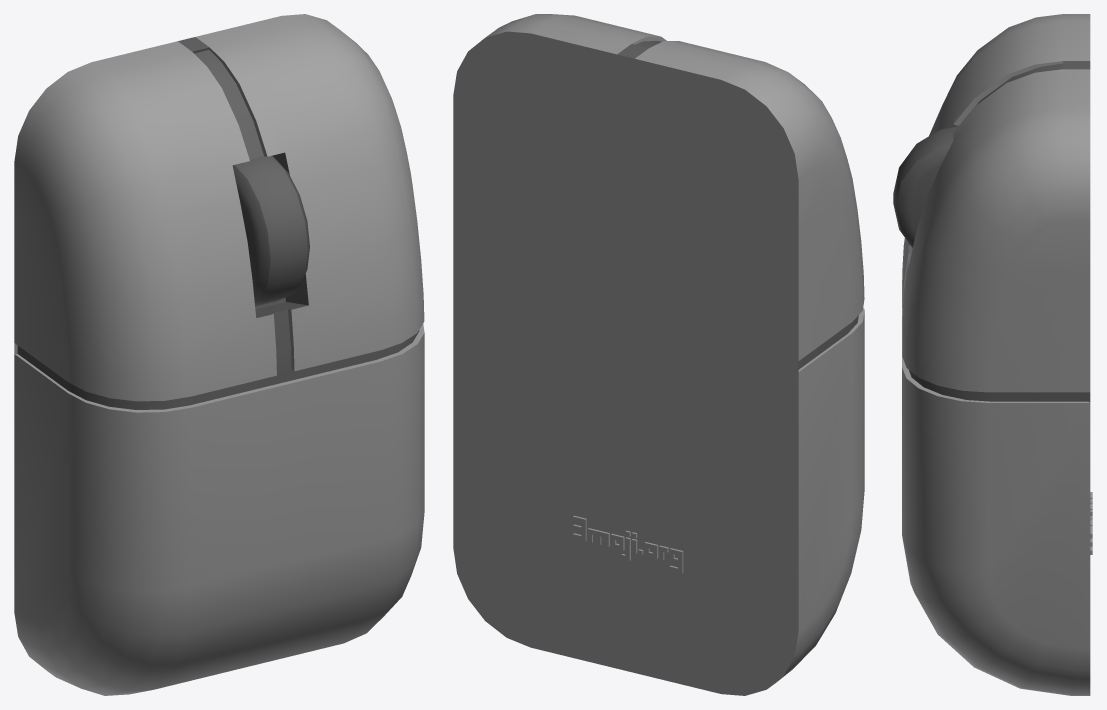
The model's file is computer_mouse.fbx.
3 renders of one model, left to right at view 1: azimuth 30°, elevation 25°; view 2: azimuth 150°, elevation 25°; view 3: azimuth 270°, elevation 25°, orthographic. The views are drawn at different scales.
Parts seen in each view (by area): view 1: Cube.928; view 2: Cube.928; view 3: Cube.928.
Boxes of the visible parts, <box> form: Cube.928: <box>14,14,424,695</box>; Cube.928: <box>453,14,864,695</box>; Cube.928: <box>893,14,1092,695</box>.
Bounding box in the file's own units: 130 × 221 × 68.85.
Materials: 1 (1 with a texture image).
